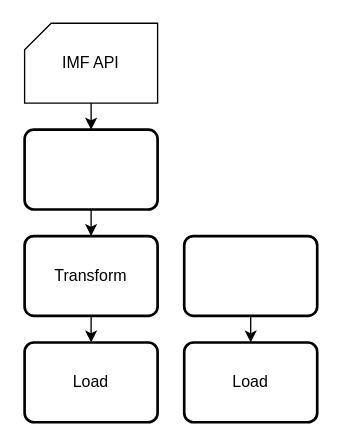
Some shapes in this 340 by 447 pixel diagram are drawn without their labels. Here are the shapes that lost their labels. From the top down, the box of each, then its label:
(23, 128, 158, 210): Extract
(182, 234, 318, 317): read cdv
